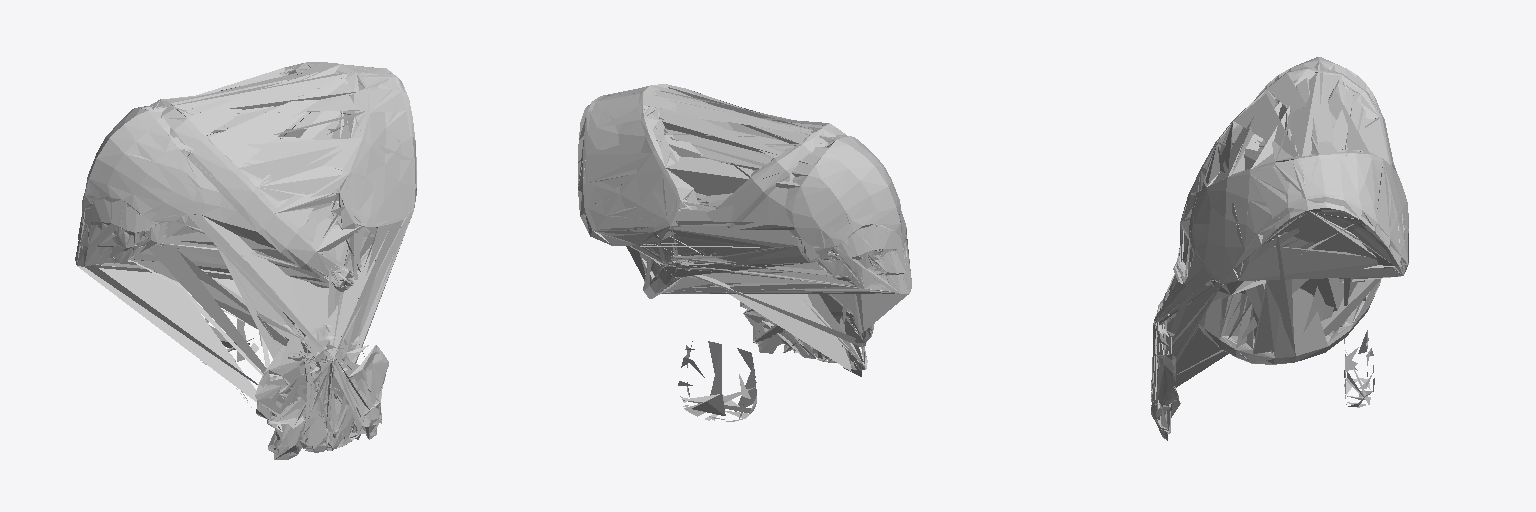
The model's file is Ezio.obj.
The picture shows the model from 3 angles: view 1: azimuth 30°, elevation 25°; view 2: azimuth 150°, elevation 25°; view 3: azimuth 270°, elevation 25°; orthographic projection.
Parts seen in each view (by area): view 1: Model001_7_handl_0.1_0_0.001, Model001_7_flaps_0.1_0_0, Model001_7_shoulders_0.1_0_0, Model001_7_head1nPart!_0.1_0_0.001, Model001_7_bracerl_0.1_0_0, Model001_7_boots_0.1_0_0, Model001_7_chskirt_0.1_0_0, Model001_7_chemise_0.1_0_0, Model001_7_gun_0.1_0_0, Model001_7_blazon_0.1_0_0, Model001_7_bracerr_0.1_0_0, Model001_7_skirt1_0.1_0_0 (+5 smaller); view 2: Model001_7_flaps_0.1_0_0, Model001_7_shoulders_0.1_0_0, Model001_7_handl_0.1_0_0.001, Model001_7_belts_0.1_0_0, Model001_7_boots_0.1_0_0, Model001_7_head1nPart!_0.1_0_0.001, Model001_7_skirt1_0.1_0_0, Model001_7_hood_0.1_0_0.001, Model001_7_blazon_0.1_0_0, Model001_7_gun_0.1_0_0, Model001_7_chskirt_0.1_0_0, Model001_7_chemise_0.1_0_0 (+6 smaller); view 3: Model001_7_flaps_0.1_0_0, Model001_7_head1nPart!_0.1_0_0.001, Model001_7_chskirt_0.1_0_0, Model001_7_shoulders_0.1_0_0, Model001_7_handl_0.1_0_0.001, Model001_7_bracerl_0.1_0_0, Model001_7_boots_0.1_0_0, Model001_7_chemise_0.1_0_0, Model001_7_skirt1_0.1_0_0, Model001_7_gun_0.1_0_0, Model001_7_blazon_0.1_0_0, Model001_7_bracerr_0.1_0_0 (+2 smaller).
Part boxes in pixels (x1,y1,x2,y2): Model001_7_handl_0.1_0_0.001: (75,68,416,459); Model001_7_flaps_0.1_0_0: (78,62,416,455); Model001_7_shoulders_0.1_0_0: (85,65,416,286); Model001_7_head1nPart!_0.1_0_0.001: (82,62,415,288); Model001_7_bracerl_0.1_0_0: (90,63,412,289); Model001_7_boots_0.1_0_0: (81,62,415,459); Model001_7_chskirt_0.1_0_0: (85,64,412,289); Model001_7_chemise_0.1_0_0: (77,64,411,284); Model001_7_gun_0.1_0_0: (84,69,412,281); Model001_7_blazon_0.1_0_0: (81,69,382,281); Model001_7_bracerr_0.1_0_0: (84,65,415,290); Model001_7_skirt1_0.1_0_0: (77,63,412,282); Model001_7_flaps_0.1_0_0: (578,84,905,376); Model001_7_shoulders_0.1_0_0: (578,85,901,296); Model001_7_handl_0.1_0_0.001: (583,84,909,370); Model001_7_belts_0.1_0_0: (586,92,911,294); Model001_7_boots_0.1_0_0: (583,84,901,421); Model001_7_head1nPart!_0.1_0_0.001: (587,86,911,296); Model001_7_skirt1_0.1_0_0: (578,84,907,292); Model001_7_hood_0.1_0_0.001: (588,91,911,293); Model001_7_blazon_0.1_0_0: (586,91,908,293); Model001_7_gun_0.1_0_0: (588,84,906,272); Model001_7_chskirt_0.1_0_0: (578,88,905,298); Model001_7_chemise_0.1_0_0: (578,84,896,286); Model001_7_flaps_0.1_0_0: (1151,60,1408,440); Model001_7_head1nPart!_0.1_0_0.001: (1176,61,1402,361); Model001_7_chskirt_0.1_0_0: (1177,59,1408,363); Model001_7_shoulders_0.1_0_0: (1180,57,1408,364); Model001_7_handl_0.1_0_0.001: (1151,64,1408,439); Model001_7_bracerl_0.1_0_0: (1180,60,1408,321); Model001_7_boots_0.1_0_0: (1151,58,1408,433); Model001_7_chemise_0.1_0_0: (1177,57,1406,362); Model001_7_skirt1_0.1_0_0: (1178,67,1403,363); Model001_7_gun_0.1_0_0: (1181,60,1402,362); Model001_7_blazon_0.1_0_0: (1184,162,1407,362); Model001_7_bracerr_0.1_0_0: (1173,77,1407,359).
Size of the model in its own units: 0.6611 by 0.6071 by 0.4598.